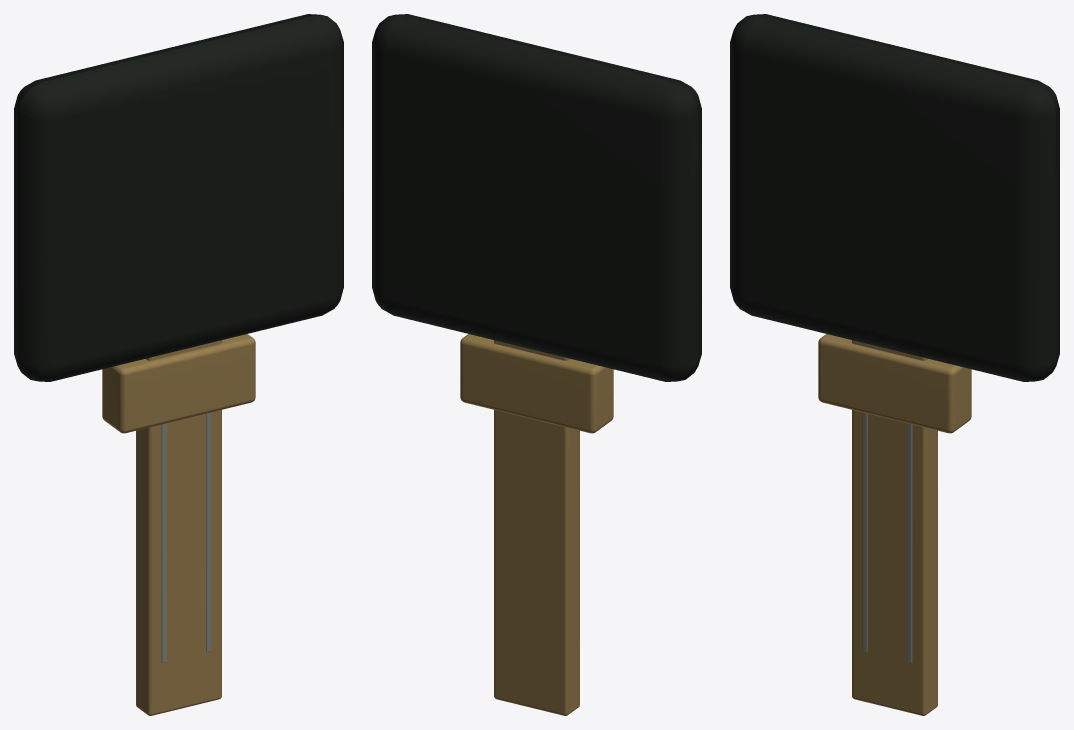
File: startup_controls_key_only.glb
The picture shows the model from 3 angles, left to right: view 1: azimuth 30°, elevation 25°; view 2: azimuth 150°, elevation 25°; view 3: azimuth 330°, elevation 25°; orthographic projection.
Parts seen in each view (by area): view 1: Key_Grip, Key_Blade, Key_Shoulder, Key_Groove.001, Key_Groove; view 2: Key_Grip, Key_Blade, Key_Shoulder; view 3: Key_Grip, Key_Blade, Key_Shoulder, Key_Groove, Key_Groove.001.
Boxes of the visible parts, left/top/right/bottom form: Key_Grip: left=14, top=14, right=343, bottom=381; Key_Blade: left=136, top=340, right=221, bottom=715; Key_Shoulder: left=102, top=334, right=255, bottom=433; Key_Groove.001: left=206, top=412, right=211, bottom=652; Key_Groove: left=161, top=423, right=166, bottom=662; Key_Grip: left=372, top=14, right=701, bottom=381; Key_Blade: left=494, top=340, right=579, bottom=715; Key_Shoulder: left=460, top=334, right=613, bottom=433; Key_Grip: left=730, top=14, right=1059, bottom=381; Key_Blade: left=852, top=340, right=937, bottom=715; Key_Shoulder: left=818, top=334, right=971, bottom=433; Key_Groove: left=862, top=412, right=867, bottom=652; Key_Groove.001: left=907, top=423, right=912, bottom=662.
Size of the model in its own units: 0.026 by 0.0505 by 0.004.
